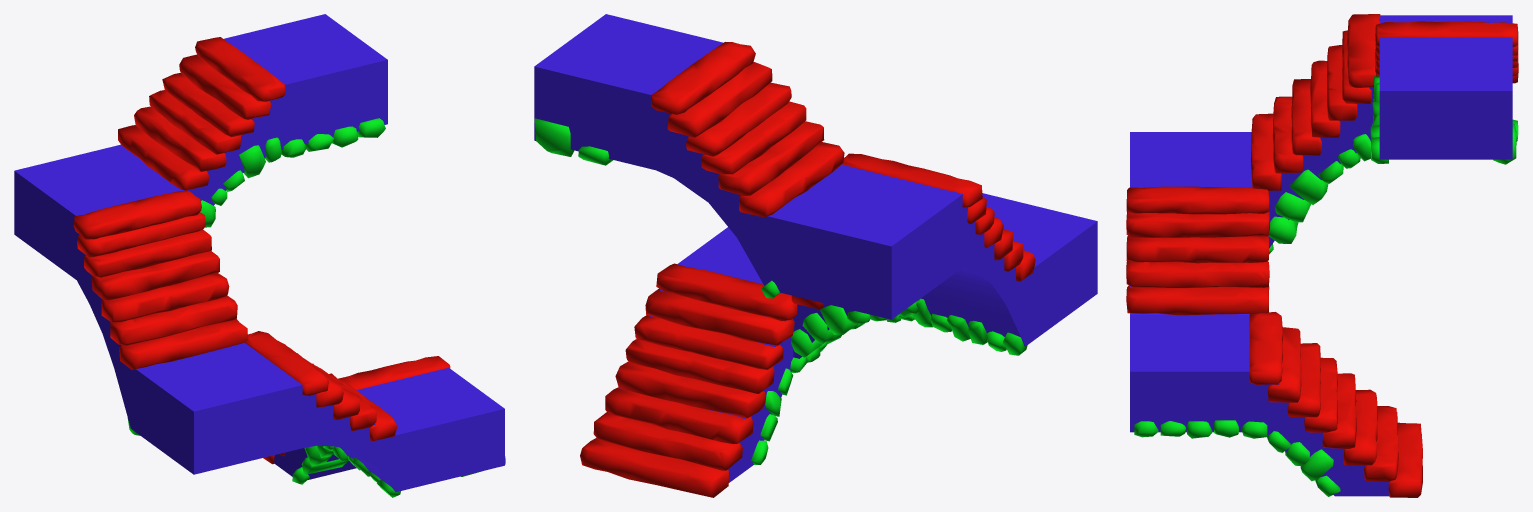
File: StoneStairs.fbx
3 views of the same model, side by side, from view 1: azimuth 30°, elevation 25°; view 2: azimuth 150°, elevation 25°; view 3: azimuth 270°, elevation 25° (orthographic). The views are drawn at different scales.
Parts seen in each view (by area): view 1: StoneStairs; view 2: StoneStairs; view 3: StoneStairs.
Boxes of the visible parts, bbox=[...] form: StoneStairs: bbox=[14, 14, 505, 497]; StoneStairs: bbox=[534, 14, 1097, 497]; StoneStairs: bbox=[1126, 14, 1518, 497].
Size of what is drawn, in the model's own units: 4.43 by 5.06 by 4.39.
